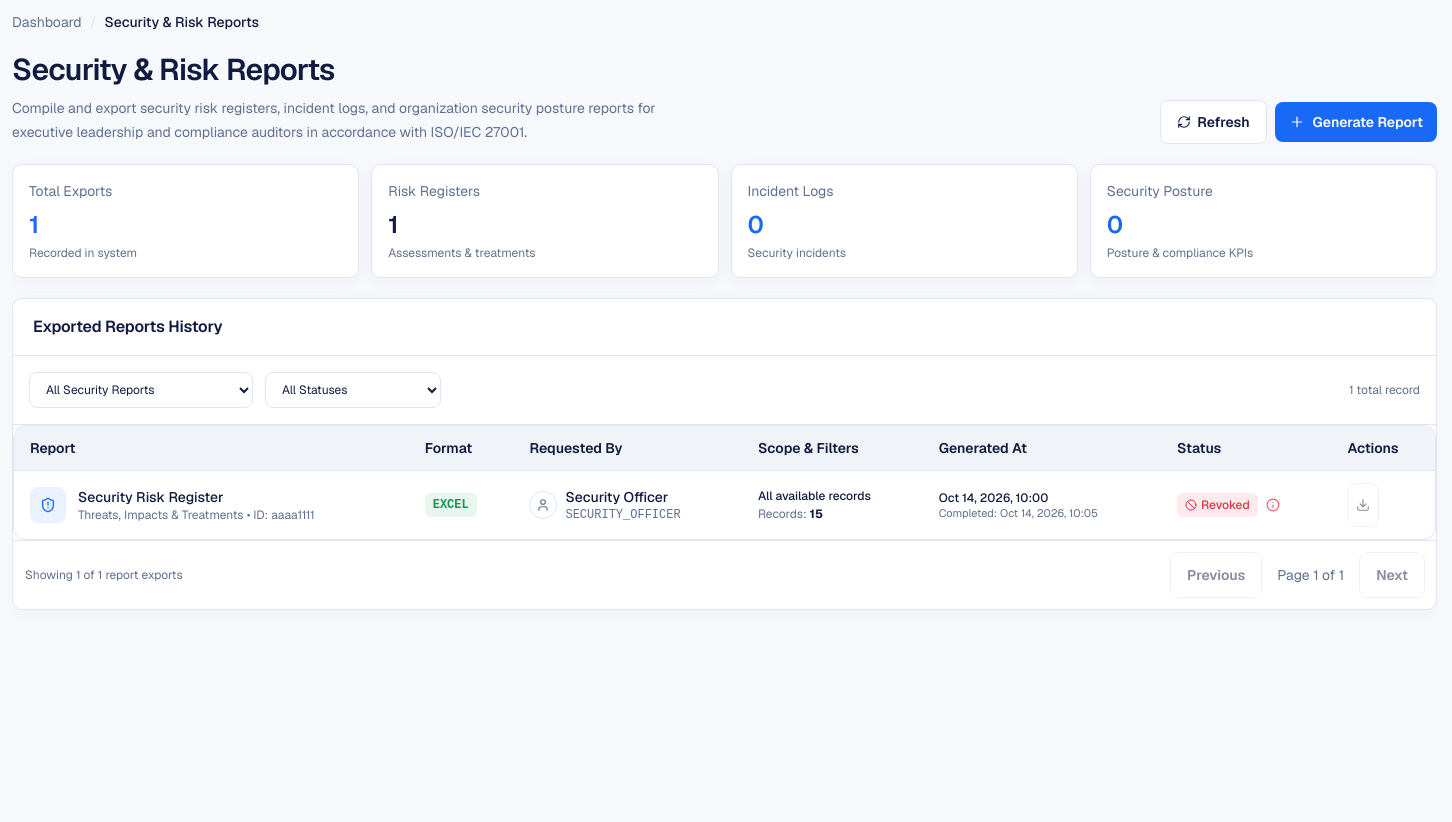
Scenario: ExportReportsView › renders Revoked badge and disabled download button for revoked exports, and enforces SoD filter options
The image size is (1452, 822).
Hover to trigger rich tooltip
Hover over the button with aria-label "View revocation details" at {"x": 1229, "y": 505}, box [1177, 493, 1282, 517]
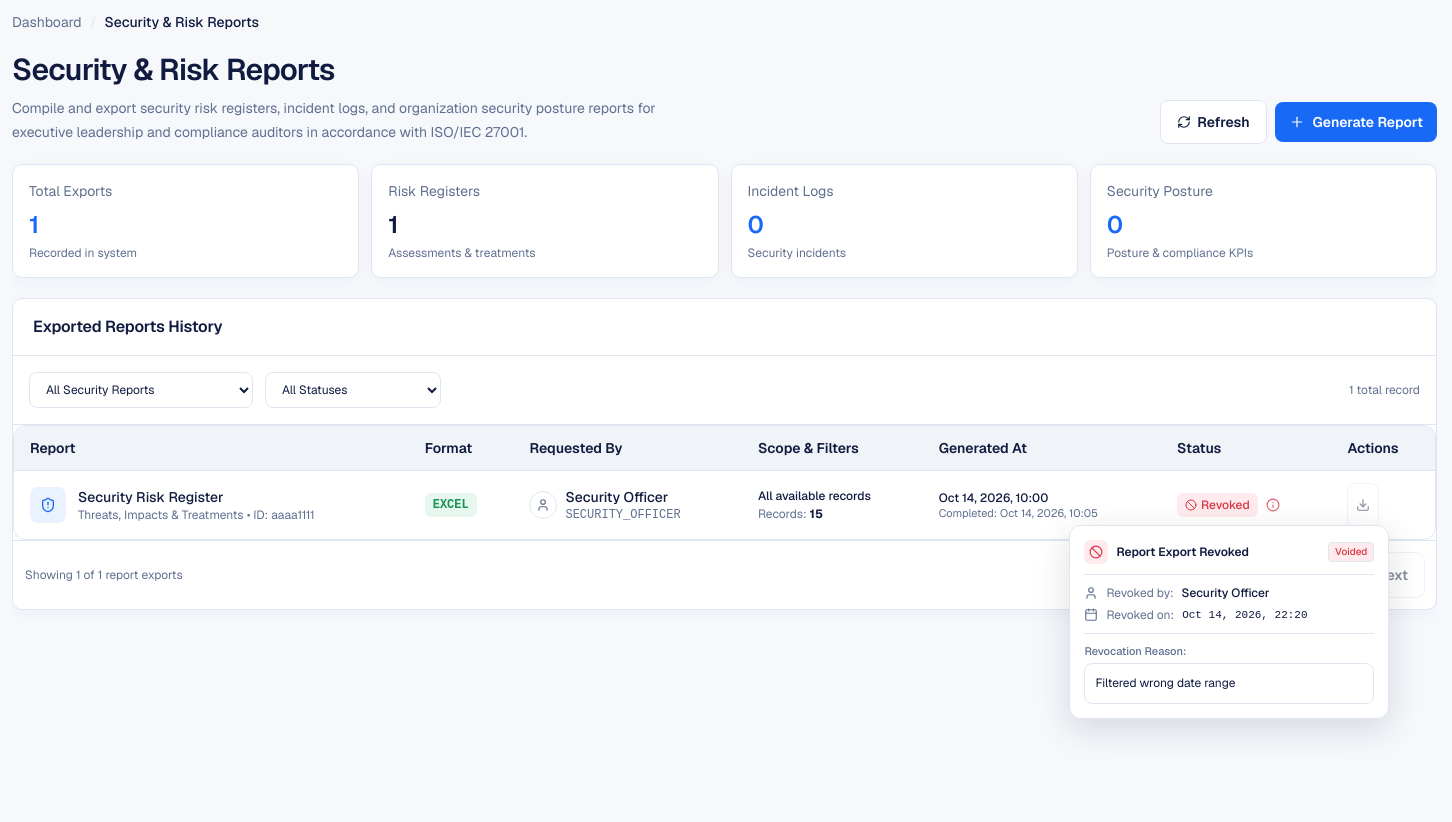
Expected: the button titled "This report export has been revoked and cannot be downloaded" is disabled, [1347, 483, 1379, 527]
Now the text "Filtered wrong date range" is shown, box [1084, 663, 1374, 704]
